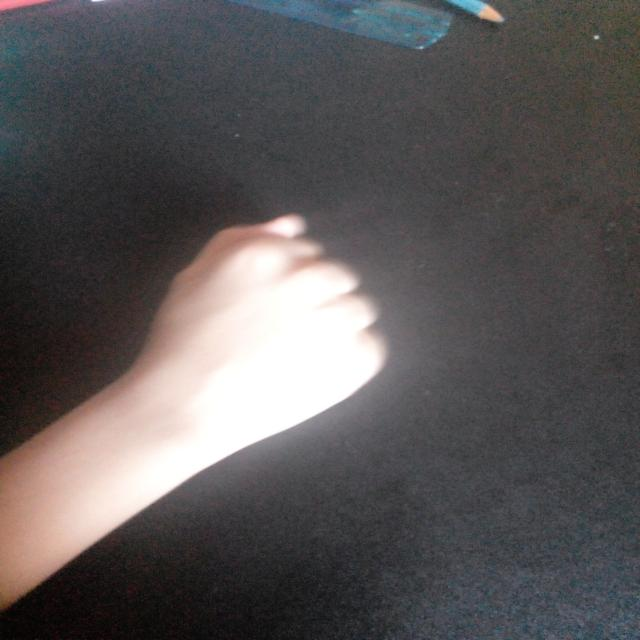Closed Hand: (134, 208, 393, 446)
